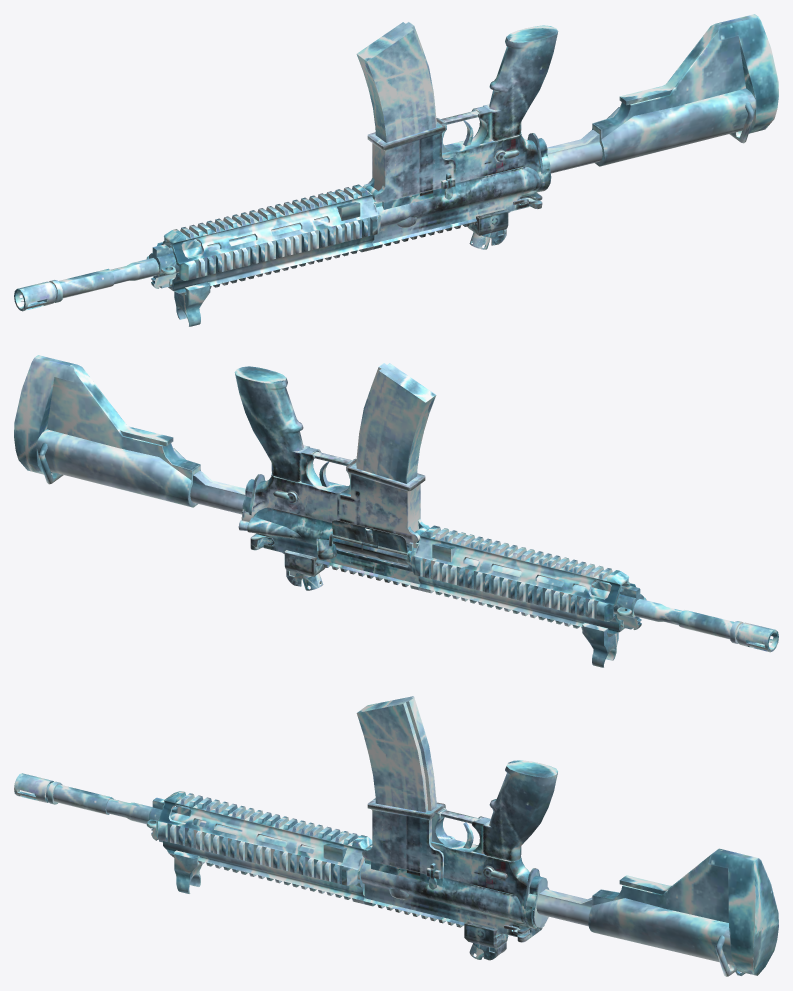
The model's file is PubgM4.obj.
The picture shows the model from 3 angles, top to bottom: view 1: azimuth 30°, elevation 25°; view 2: azimuth 150°, elevation 25°; view 3: azimuth 330°, elevation 25°; orthographic projection.
Visible parts, largest first — view 1: main, back, magazine, aim; view 2: main, back, magazine, aim; view 3: main, back, magazine, aim.
Boxes of the visible parts, box(x1,y1,x2,y2) form: main: box(14, 25, 558, 311); back: box(527, 14, 778, 173); magazine: box(356, 22, 436, 142); aim: box(174, 209, 508, 326); main: box(234, 366, 778, 652); back: box(14, 355, 265, 515); magazine: box(356, 363, 436, 483); aim: box(284, 550, 618, 667); main: box(14, 760, 557, 942); back: box(524, 848, 778, 976); magazine: box(356, 696, 436, 812); aim: box(174, 850, 508, 960).
Bounding box in the file's own units: 92.77 × 28.94 × 7.54.
Materials: 4 (4 with a texture image).
